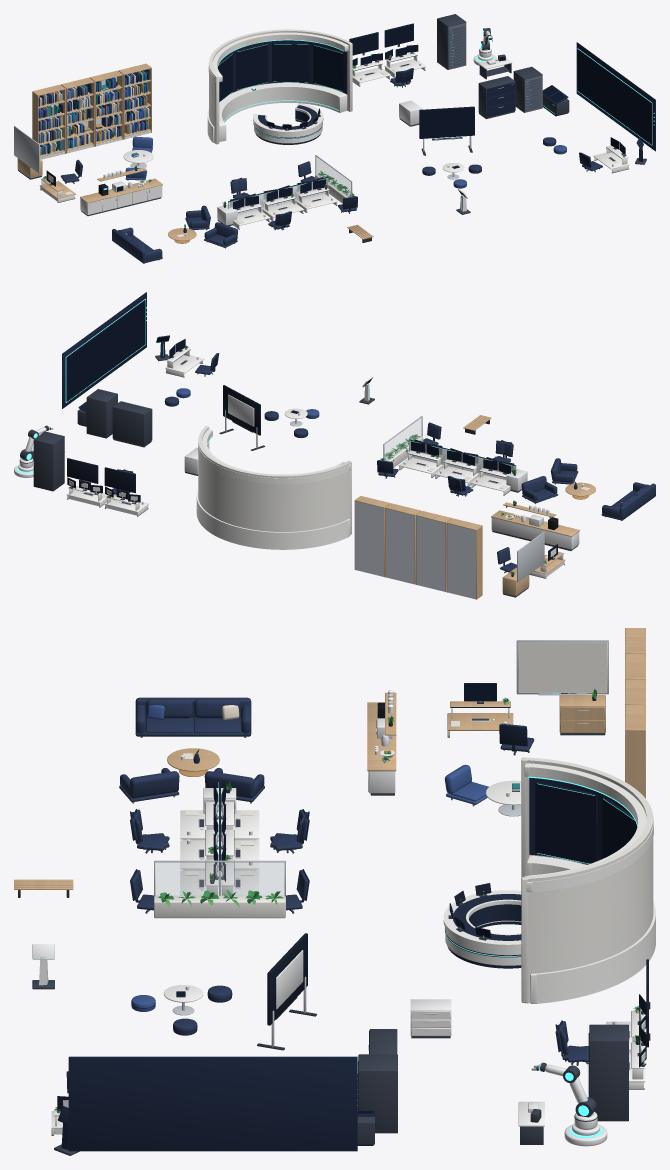
File: office-furniture-v01.glb
3 views of the same model, one above another, from view 1: azimuth 30°, elevation 25°; view 2: azimuth 150°, elevation 25°; view 3: azimuth 270°, elevation 25° (orthographic). The views are drawn at different scales.
Visible parts, largest first — view 1: Command_Display_Mesh, SCREEN_Ops_Wall, Research_Shelf_1_Mesh, Break_Counter_Mesh, Research_Shelf_3_Mesh, Research_Shelf_2_Mesh, Research_Shelf_4_Mesh, Command_Console_Mesh, SCREEN_Reporting_Screen, Test_Rack_Mesh, SCREEN_Command_P3, Ops_Cabinet_Mesh (+25 smaller); view 2: Command_Display_Mesh, SCREEN_Ops_Wall, Research_Shelf_1_Mesh, Research_Shelf_4_Mesh, Break_Counter_Mesh, Research_Shelf_2_Mesh, Research_Shelf_3_Mesh, Test_Rack_Mesh, Ops_Cabinet_Mesh, Ops_Wall_Mesh, Dev_Desk_1_Desk_Mesh, Dev_Desk_2_Desk_Mesh (+14 smaller); view 3: Ops_Wall_Mesh, Command_Display_Mesh, Workers_GlassRail_Mesh, Command_Console_Mesh, Break_Sofa_Mesh, SIGN_Research_Board, SCREEN_Command_P0, Test_Rack_Mesh, Break_Counter_Mesh, Ops_Rack_Mesh, Reporting_Screen_Mesh, Research_Cabinet_Mesh (+23 smaller).
Boxes of the visible parts, bbox=[...] form: Command_Display_Mesh: bbox=[207, 29, 352, 144]; SCREEN_Ops_Wall: bbox=[578, 50, 650, 143]; Research_Shelf_1_Mesh: bbox=[32, 84, 65, 159]; Break_Counter_Mesh: bbox=[80, 164, 162, 216]; Research_Shelf_3_Mesh: bbox=[89, 70, 123, 146]; Research_Shelf_2_Mesh: bbox=[61, 77, 94, 153]; Research_Shelf_4_Mesh: bbox=[118, 63, 151, 139]; Command_Console_Mesh: bbox=[253, 103, 323, 144]; SCREEN_Reporting_Screen: bbox=[420, 108, 474, 138]; Test_Rack_Mesh: bbox=[437, 14, 466, 69]; SCREEN_Command_P3: bbox=[272, 44, 308, 81]; Ops_Cabinet_Mesh: bbox=[478, 76, 515, 119]; Command_Display_Mesh: bbox=[196, 426, 351, 549]; SCREEN_Ops_Wall: bbox=[67, 301, 145, 400]; Research_Shelf_1_Mesh: bbox=[446, 518, 482, 599]; Research_Shelf_4_Mesh: bbox=[354, 496, 390, 577]; Break_Counter_Mesh: bbox=[491, 500, 580, 550]; Research_Shelf_2_Mesh: bbox=[416, 510, 451, 592]; Research_Shelf_3_Mesh: bbox=[385, 503, 420, 584]; Test_Rack_Mesh: bbox=[33, 431, 64, 491]; Ops_Cabinet_Mesh: bbox=[112, 401, 152, 447]; Ops_Wall_Mesh: bbox=[62, 292, 146, 408]; Dev_Desk_1_Desk_Mesh: bbox=[104, 467, 149, 516]; Dev_Desk_2_Desk_Mesh: bbox=[66, 458, 107, 507]; Ops_Wall_Mesh: bbox=[68, 1056, 357, 1151]; Command_Display_Mesh: bbox=[521, 757, 655, 1003]; Workers_GlassRail_Mesh: bbox=[154, 860, 285, 918]; Command_Console_Mesh: bbox=[443, 883, 521, 968]; Break_Sofa_Mesh: bbox=[135, 697, 251, 737]; SIGN_Research_Board: bbox=[519, 643, 606, 691]; SCREEN_Command_P0: bbox=[536, 784, 595, 863]; Test_Rack_Mesh: bbox=[588, 1024, 628, 1121]; Break_Counter_Mesh: bbox=[367, 690, 396, 795]; Ops_Rack_Mesh: bbox=[357, 1054, 397, 1133]; Reporting_Screen_Mesh: bbox=[257, 933, 316, 1050]; Research_Cabinet_Mesh: bbox=[559, 689, 605, 735].
Bounding box in the file's own units: 15.86 × 2.08 × 9.73.
43 materials, 1 textured.
